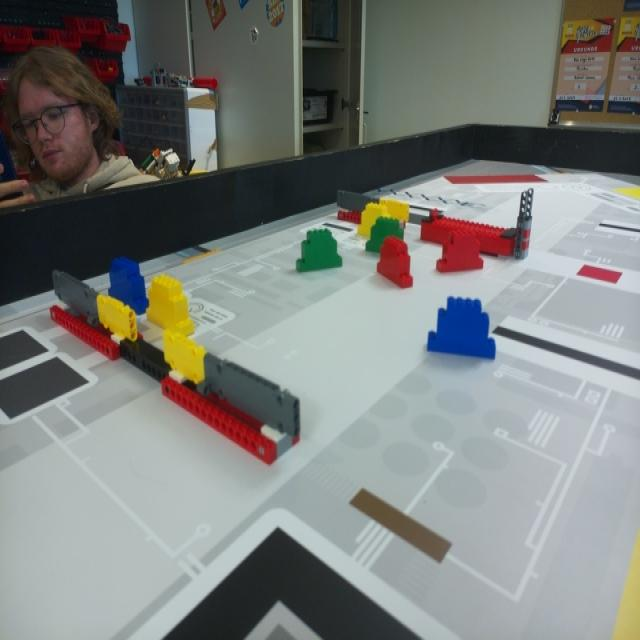blau: (429, 301, 496, 361), (108, 258, 148, 310)
gruen: (296, 229, 343, 272), (368, 220, 402, 252)
rot: (436, 227, 484, 274), (377, 236, 413, 290)
yellow: (149, 273, 194, 335), (359, 204, 387, 233)
